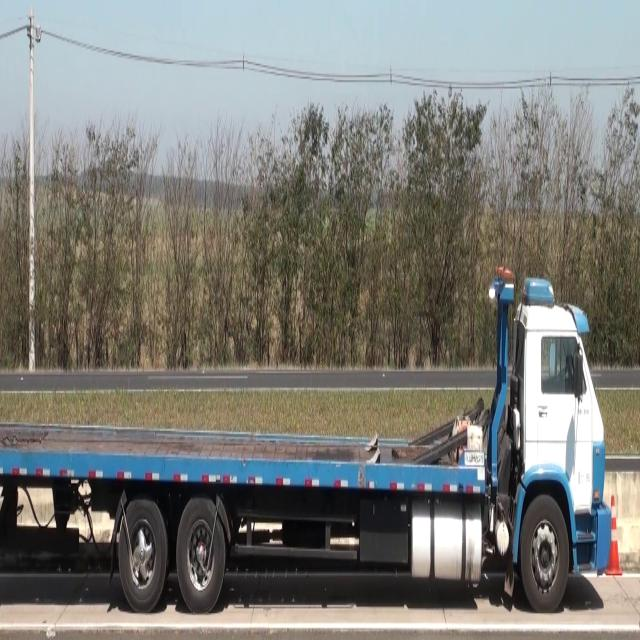-axle: (174, 498, 228, 609), (120, 499, 166, 609), (521, 501, 567, 608)
